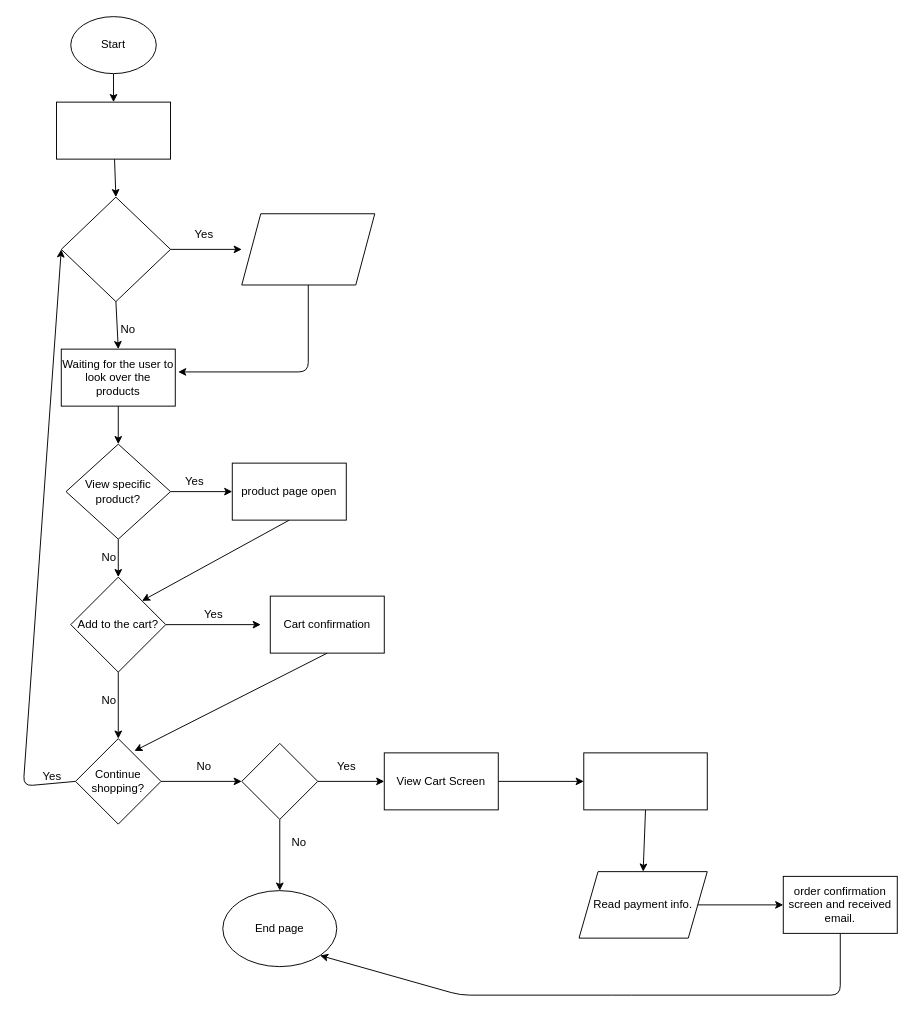
Some shapes in this 914 by 1019 pixel diagram are drawn without their labels. Each missing label, with the centre of its shape:
"Checkout?" goes at (279,780).
"Read search content" goes at (308,249).
"search for a product?" goes at (115,249).
"User enter the website" goes at (113,130).
"View Payment Screen" goes at (645,781).
